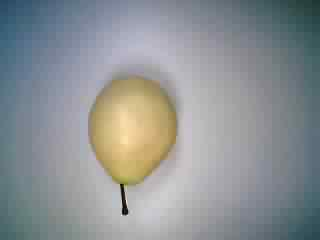pear: (78, 66, 182, 220)
